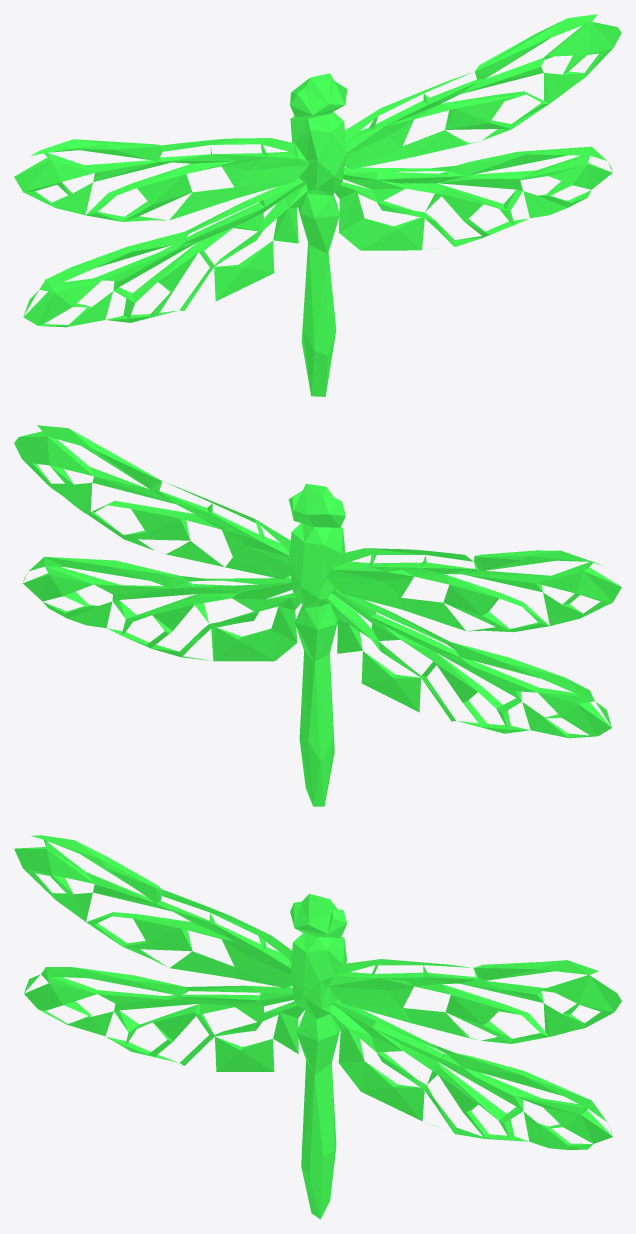
The model's file is keepy_air_enemy_dragonfly.glb.
The picture shows the model from 3 angles, top to bottom: view 1: azimuth 30°, elevation 25°; view 2: azimuth 150°, elevation 25°; view 3: azimuth 330°, elevation 25°; orthographic projection.
Parts seen in each view (by area): view 1: air_enemy_dragonfly_1000; view 2: air_enemy_dragonfly_1000; view 3: air_enemy_dragonfly_1000.
Boxes of the visible parts, bbox=[...] form: air_enemy_dragonfly_1000: bbox=[14, 14, 621, 396]; air_enemy_dragonfly_1000: bbox=[14, 425, 621, 806]; air_enemy_dragonfly_1000: bbox=[14, 835, 621, 1219].
Bounding box in the file's own units: 1.9 × 0.9595 × 0.1701.
